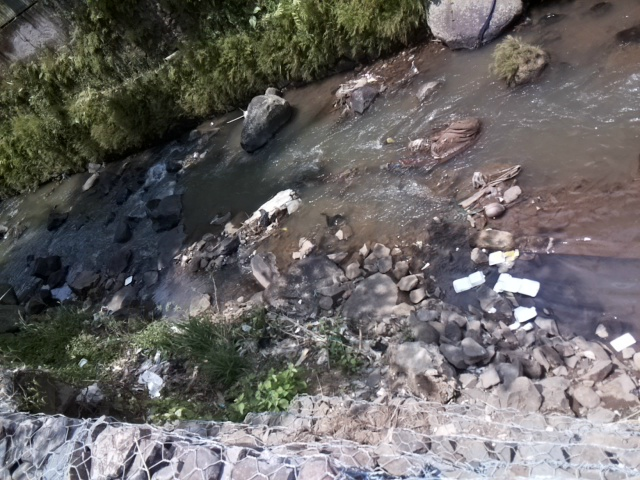Sampah_Plastik: (236, 186, 299, 238)
Sampah_Styrofoam: (494, 274, 546, 296), (451, 267, 487, 294), (608, 327, 637, 354), (487, 251, 510, 267)
